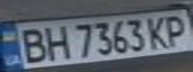3: (90, 19, 115, 56), (124, 16, 148, 53)
6: (109, 18, 130, 54)
7: (69, 20, 93, 57)
B: (12, 25, 51, 64)
H: (39, 22, 72, 61)
K: (142, 14, 175, 50)
P: (160, 12, 193, 47)
